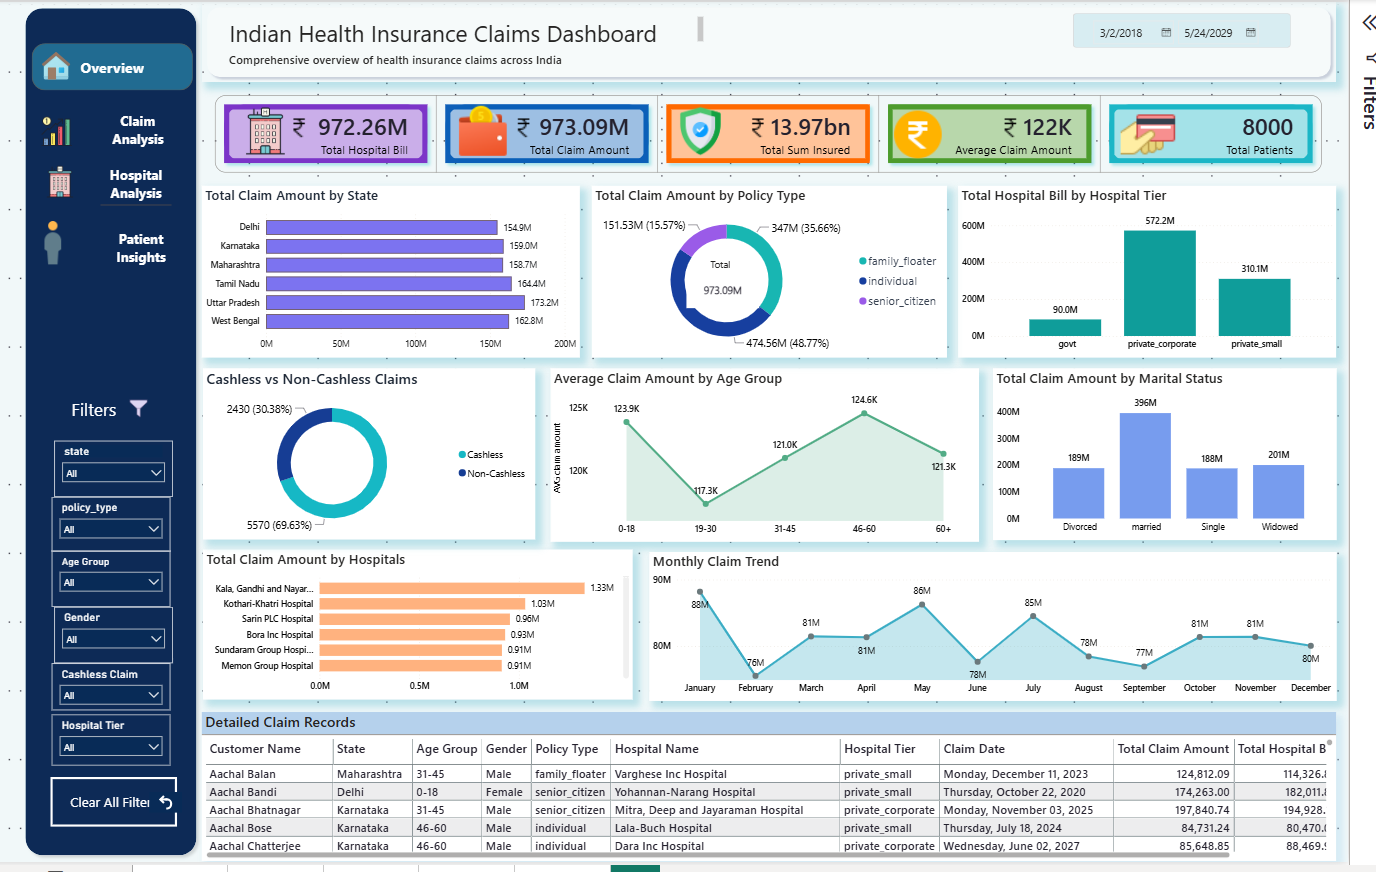

What the dashboard file says about the page in this screenshot:
{"tool":"powerbi","page":{"name":"Page 5","canvas":[1920,1200],"ordinal":4},"visuals":[{"type":"shape","box":[64,0,256,1200],"z":0},{"type":"slicer","fields":{"Values":["indian_health_insurance_claims_dataset.state"]},"box":[112.6,612.3,165.3,78.1],"z":1000},{"type":"slicer","fields":{"Values":["indian_health_insurance_claims_dataset.policy_type"]},"box":[110.8,690.4,165.3,76.3],"z":2000},{"type":"slicer","fields":{"Values":["indian_health_insurance_claims_dataset.gender"]},"box":[112.6,844.8,165.3,78.1],"z":3000},{"type":"slicer","fields":{"Values":["indian_health_insurance_claims_dataset.Age Group"]},"box":[110.8,766.7,165.3,78.1],"z":4000},{"type":"slicer","fields":{"Values":["indian_health_insurance_claims_dataset.hospital_tier"]},"box":[110.8,995.6,165.3,70.9],"z":5000},{"type":"slicer","fields":{"Values":["indian_health_insurance_claims_dataset.cashless_claim"]},"box":[110.8,922.9,165.3,65.4],"z":6000},{"type":"actionButton","box":[107.4,1082.6,176.7,69.3],"z":7000},{"type":"actionButton","box":[246.2,1103.1,45.8,28.6],"z":8000},{"type":"image","box":[86.6,154.2,59.3,55.8],"z":9000},{"type":"actionButton","title":"Claim Analysis","box":[180.1,154.2,101.2,54.1],"z":10000},{"type":"actionButton","title":"Hospital Analysis","box":[178.4,228.6,99.4,57.6],"z":11000},{"type":"actionButton","title":"Patient Insights","box":[185.3,317,99.4,50.6],"z":12000},{"type":"image","box":[80,304,62.8,64.5],"z":13000},{"type":"image","box":[93.5,221.7,54.1,64.5],"z":14000},{"type":"image","box":[90.1,67.6,50.2,45],"z":15000},{"type":"actionButton","box":[109.1,542.2,117.8,52],"z":16000},{"type":"image","box":[211.3,554.3,39.8,26],"z":17000},{"type":"shape","box":[81.4,57.2,225.2,65.8],"z":18000},{"type":"clusteredBarChart","title":"Total Claim Amount by State","fields":{"Y":["indian_health_insurance_claims_dataset.Total Claim Amount"],"Category":["indian_health_insurance_claims_dataset.state"]},"box":[320,256,528,240],"z":19000},{"type":"clusteredColumnChart","title":"Total Hospital Bill by Hospital Tier","fields":{"Y":["indian_health_insurance_claims_dataset.Total Hospital Bill"],"Category":["indian_health_insurance_claims_dataset.hospital_tier"]},"box":[1376,256,528,240],"z":20000},{"type":"lineChart","fields":{"Y":["indian_health_insurance_claims_dataset.Average Claim Amount"],"Category":["indian_health_insurance_claims_dataset.Age Group"]},"box":[805.8,511,598.3,242.4],"z":21000},{"type":"clusteredBarChart","title":"Total Claim Amount by Hospitals","fields":{"Category":["indian_health_insurance_claims_dataset.hospital_name"],"Y":["indian_health_insurance_claims_dataset.Total Claim Amount"]},"box":[320.9,764,600,209.3],"z":22000},{"type":"clusteredColumnChart","title":"Total Claim Amount by Marital Status","fields":{"Y":["indian_health_insurance_claims_dataset.Total Claim Amount"],"Category":["indian_health_insurance_claims_dataset.marital_status"]},"box":[1424,512,480,240],"z":23000},{"type":"donutChart","title":"Cashless vs Non-Cashless Claims","fields":{"Y":["indian_health_insurance_claims_dataset.Total Patients"],"Category":["indian_health_insurance_claims_dataset.Cashless Status"]},"box":[320.9,511,464,239],"z":24000},{"type":"shape","box":[320,0,1584,112],"z":25000},{"type":"textbox","box":[352,16,672,48],"z":26000},{"type":"textbox","box":[352,64,512,48],"z":27000},{"type":"shape","box":[1536,16,304,48],"z":28000},{"type":"slicer","fields":{"Values":["indian_health_insurance_claims_dataset.claim_date"]},"box":[1552,16,272,80],"z":29000},{"type":"cardVisual","fields":{"Data":["indian_health_insurance_claims_dataset.Total Hospital Bill","indian_health_insurance_claims_dataset.Total Claim Amount","indian_health_insurance_claims_dataset.Total Sum Insured","indian_health_insurance_claims_dataset.Average Claim Amount","indian_health_insurance_claims_dataset.Total Patients"]},"box":[320,112,1584,144],"z":30000},{"type":"image","box":[368,144,80,80],"z":31000},{"type":"image","box":[1280,144,80,80],"z":32000},{"type":"image","box":[672,144,80,80],"z":33000},{"type":"image","box":[1600,144,80,80],"z":34000},{"type":"image","box":[976,144,80,70],"z":35000},{"type":"donutChart","title":"Total Claim Amount by Policy Type","fields":{"Category":["indian_health_insurance_claims_dataset.policy_type"],"Y":["indian_health_insurance_claims_dataset.Total Claim Amount"]},"box":[864,256,496,240],"z":36000},{"type":"cardVisual","fields":{"Data":["indian_health_insurance_claims_dataset.Total Claim Amount"]},"box":[992,368,112,64],"z":37000},{"type":"textbox","box":[1024,352,64,32],"z":38000},{"type":"lineChart","title":" Monthly Claim Trend","fields":{"Y":["indian_health_insurance_claims_dataset.Total Claim Amount"],"Category":["indian_health_insurance_claims_dataset.claim_date.Variation.Date Hierarchy.Month"]},"box":[944,768,960,208],"z":39000},{"type":"tableEx","title":"Detailed Claim Records","fields":{"Values":["indian_health_insurance_claims_dataset.customer_name","indian_health_insurance_claims_dataset.state","indian_health_insurance_claims_dataset.Age Group","indian_health_insurance_claims_dataset.gender","indian_health_insurance_claims_dataset.policy_type","indian_health_insurance_claims_dataset.hospital_name","indian_health_insurance_claims_dataset.hospital_tier","indian_health_insurance_claims_dataset.claim_date","indian_health_insurance_claims_dataset.Total Claim Amount","indian_health_insurance_claims_dataset.Total Hospital Bill","indian_health_insurance_claims_dataset.cashless_claim"]},"box":[320,992,1584,208],"z":40000},{"type":"image","box":[416,160,80,32],"z":41000},{"type":"image","box":[720,160,96,32],"z":42000},{"type":"image","box":[1056,160,80,32],"z":43000},{"type":"image","box":[1408,160,80,32],"z":44000}]}

Visuals, with their boxes on the page's 1920x1200 design canvas (x1, y1, x2, y2). These are canvas units, not pixel positions in the 1376x872 screenshot, which may show the page scaled, cropped or inside an application window:
shape: Rect(64, 0, 320, 1200)
slicer - indian_health_insurance_claims_dataset.state: Rect(113, 612, 278, 690)
slicer - indian_health_insurance_claims_dataset.policy_type: Rect(111, 690, 276, 767)
slicer - indian_health_insurance_claims_dataset.gender: Rect(113, 845, 278, 923)
slicer - indian_health_insurance_claims_dataset.Age Group: Rect(111, 767, 276, 845)
slicer - indian_health_insurance_claims_dataset.hospital_tier: Rect(111, 996, 276, 1066)
slicer - indian_health_insurance_claims_dataset.cashless_claim: Rect(111, 923, 276, 988)
actionButton: Rect(107, 1083, 284, 1152)
actionButton: Rect(246, 1103, 292, 1132)
image: Rect(87, 154, 146, 210)
"Claim Analysis" actionButton: Rect(180, 154, 281, 208)
"Hospital Analysis" actionButton: Rect(178, 229, 278, 286)
"Patient Insights" actionButton: Rect(185, 317, 285, 368)
image: Rect(80, 304, 143, 368)
image: Rect(94, 222, 148, 286)
image: Rect(90, 68, 140, 113)
actionButton: Rect(109, 542, 227, 594)
image: Rect(211, 554, 251, 580)
shape: Rect(81, 57, 307, 123)
"Total Claim Amount by State" clusteredBarChart: Rect(320, 256, 848, 496)
"Total Hospital Bill by Hospital Tier" clusteredColumnChart: Rect(1376, 256, 1904, 496)
lineChart - indian_health_insurance_claims_dataset.Average Claim Amount x indian_health_insurance_claims_dataset.Age Group: Rect(806, 511, 1404, 753)
"Total Claim Amount by Hospitals" clusteredBarChart: Rect(321, 764, 921, 973)
"Total Claim Amount by Marital Status" clusteredColumnChart: Rect(1424, 512, 1904, 752)
"Cashless vs Non-Cashless Claims" donutChart: Rect(321, 511, 785, 750)
shape: Rect(320, 0, 1904, 112)
textbox: Rect(352, 16, 1024, 64)
textbox: Rect(352, 64, 864, 112)
shape: Rect(1536, 16, 1840, 64)
slicer - indian_health_insurance_claims_dataset.claim_date: Rect(1552, 16, 1824, 96)
cardVisual - indian_health_insurance_claims_dataset.Total Hospital Bill x indian_health_insurance_claims_dataset.Total Claim Amount: Rect(320, 112, 1904, 256)
image: Rect(368, 144, 448, 224)
image: Rect(1280, 144, 1360, 224)
image: Rect(672, 144, 752, 224)
image: Rect(1600, 144, 1680, 224)
image: Rect(976, 144, 1056, 214)
"Total Claim Amount by Policy Type" donutChart: Rect(864, 256, 1360, 496)
cardVisual - indian_health_insurance_claims_dataset.Total Claim Amount: Rect(992, 368, 1104, 432)
textbox: Rect(1024, 352, 1088, 384)
" Monthly Claim Trend" lineChart: Rect(944, 768, 1904, 976)
"Detailed Claim Records" tableEx: Rect(320, 992, 1904, 1200)
image: Rect(416, 160, 496, 192)
image: Rect(720, 160, 816, 192)
image: Rect(1056, 160, 1136, 192)
image: Rect(1408, 160, 1488, 192)
